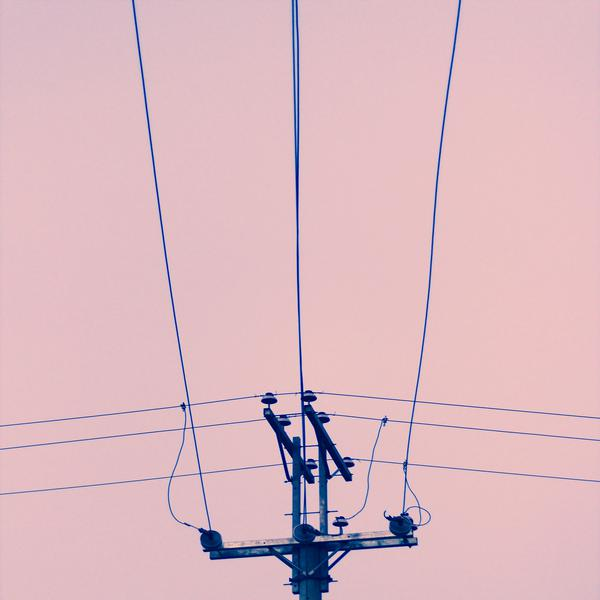utility_pole: (179, 377, 444, 599)
